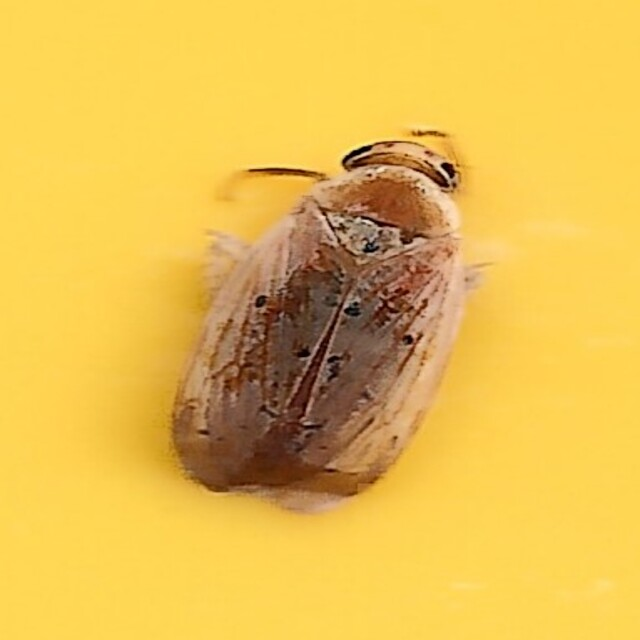Hemiptera: (167, 126, 473, 514)
